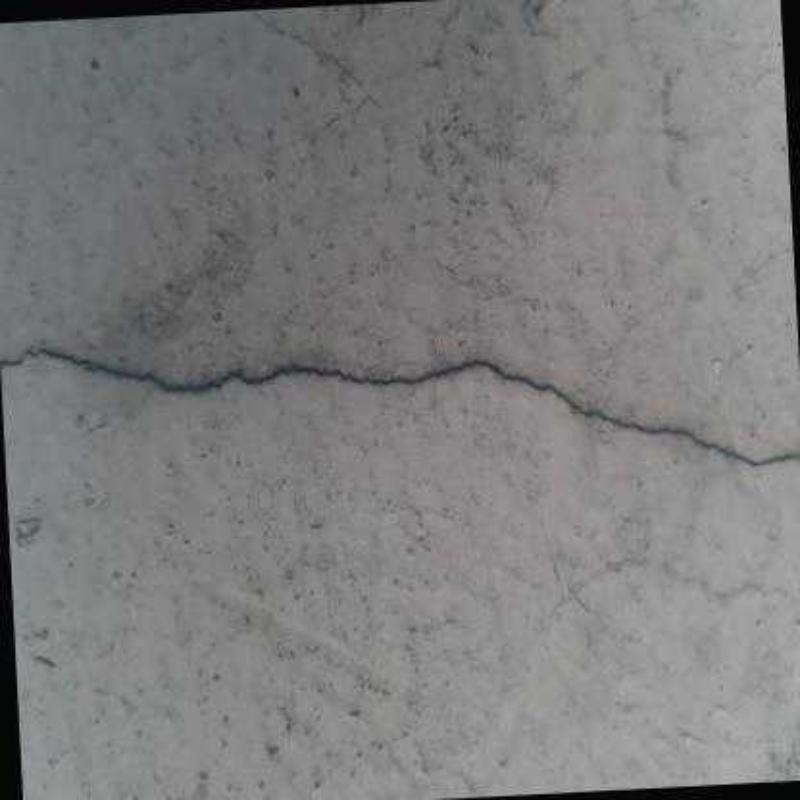pothole: (0, 342, 800, 468)
